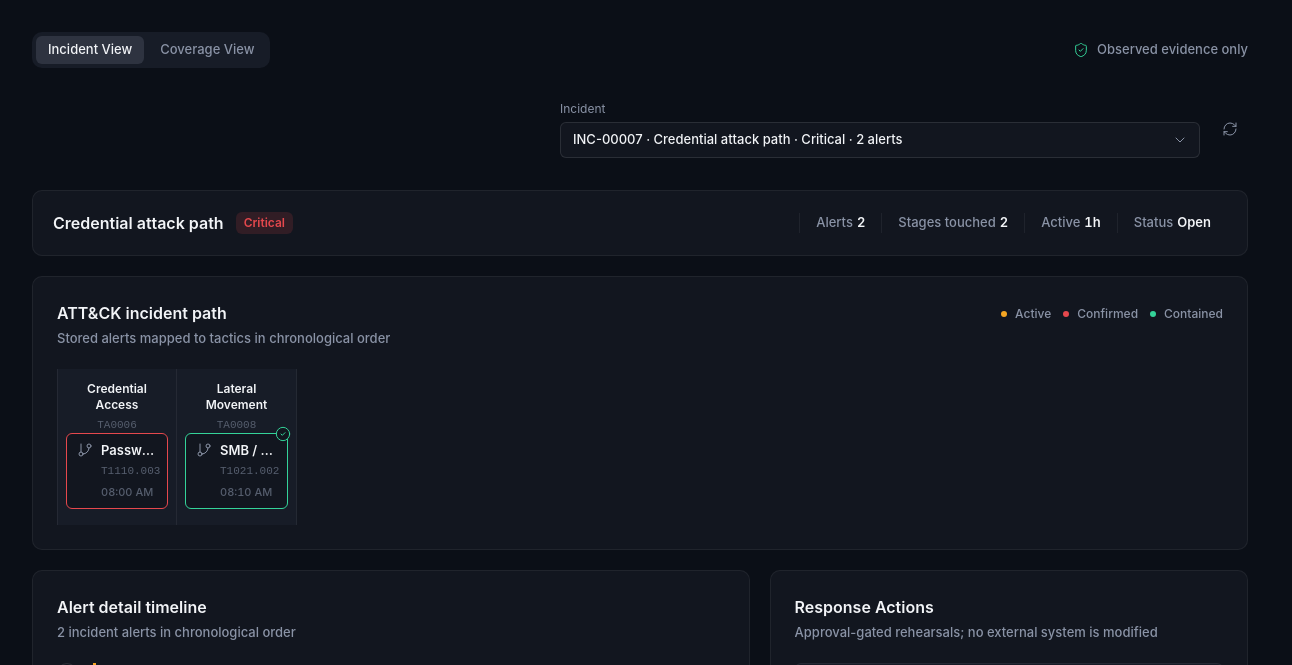
MITRE Coverage › keeps the incident matrix and timeline on one evidence-backed incident object
Expected: the number of buttons with class "mitre-alert-chip" is 2, left=66, top=433, right=168, bottom=509; left=185, top=433, right=288, bottom=509
Expected: the button with class "mitre-alert-chip" that starts with "SMB / Windows Admin Shares" is shown, left=185, top=433, right=288, bottom=509
Click the button "Coverage View". click: (207, 50)
box: left=148, top=36, right=266, bottom=64
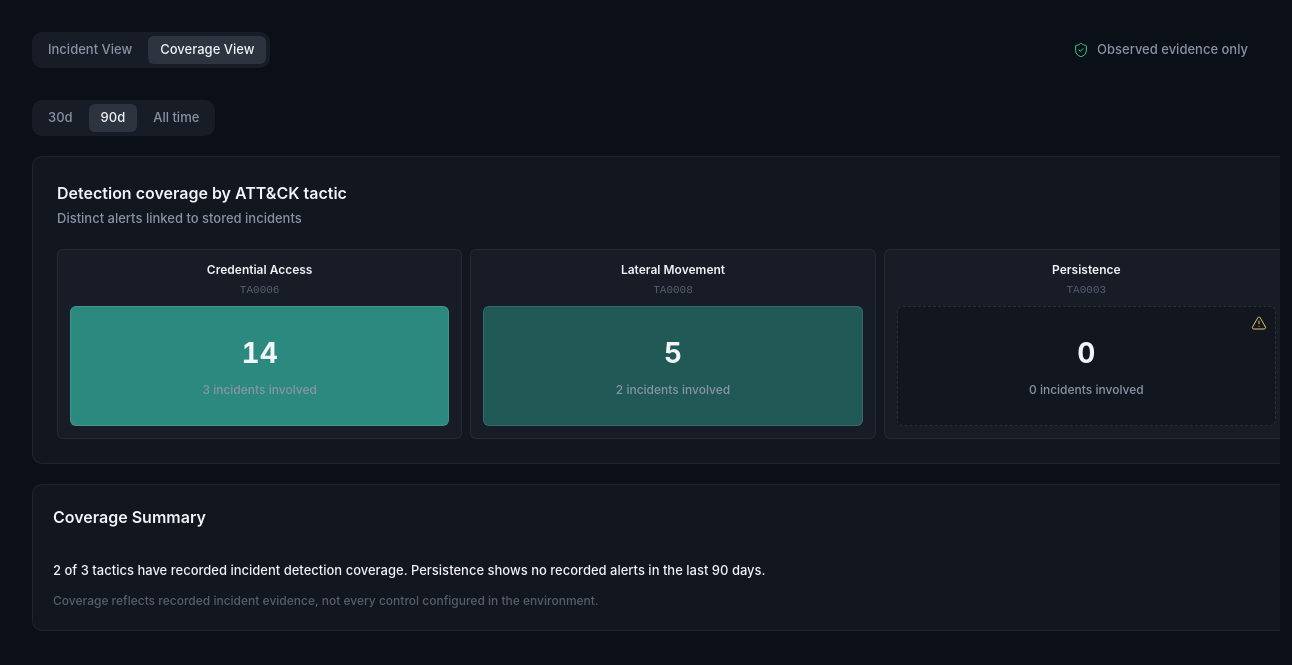
Result: the text "Detection coverage by ATT&CK tactic" is shown at left=57, top=181, right=347, bottom=205
Result: the text "Persistence shows no recorded alerts" is shown at left=53, top=562, right=766, bottom=578
